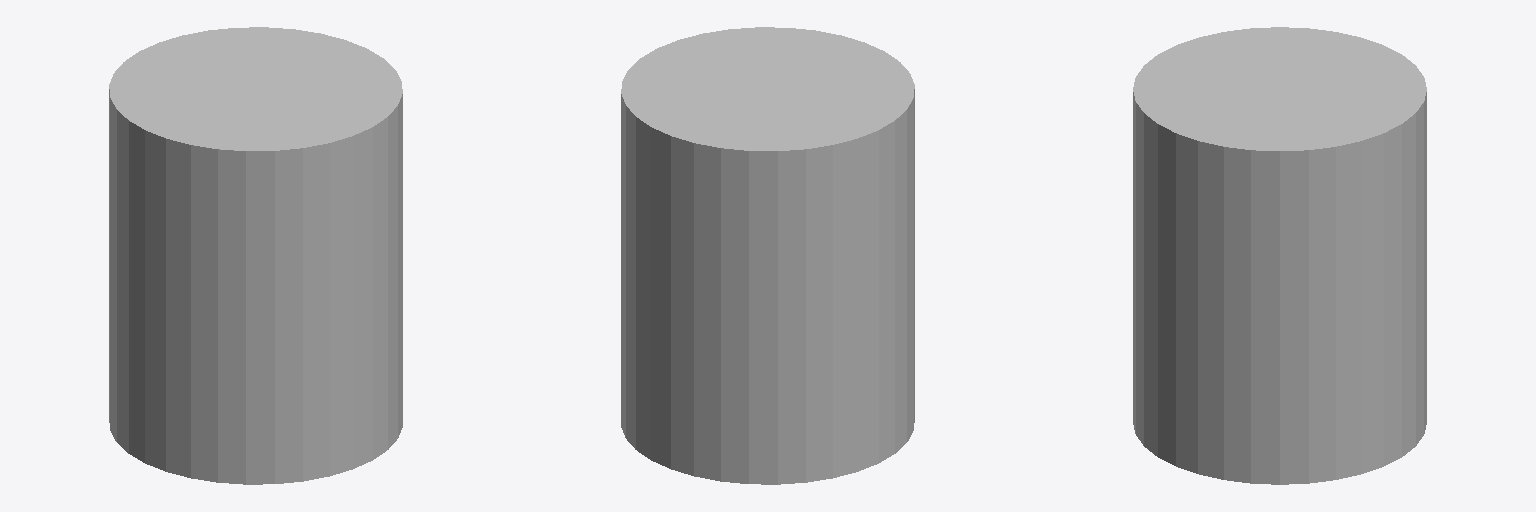
File: sector.obj
The picture shows the model from 3 angles: view 1: azimuth 30°, elevation 25°; view 2: azimuth 150°, elevation 25°; view 3: azimuth 270°, elevation 25°; orthographic projection.
Parts seen in each view (by area): view 1: Cylinder.001_Cylinder.023; view 2: Cylinder.001_Cylinder.023; view 3: Cylinder.001_Cylinder.023.
Part boxes in pixels (x1,y1,x2,y2): Cylinder.001_Cylinder.023: (109, 27, 402, 484); Cylinder.001_Cylinder.023: (621, 27, 914, 484); Cylinder.001_Cylinder.023: (1133, 27, 1426, 484).
Bounding box in the file's own units: 0.8 × 1 × 0.8.